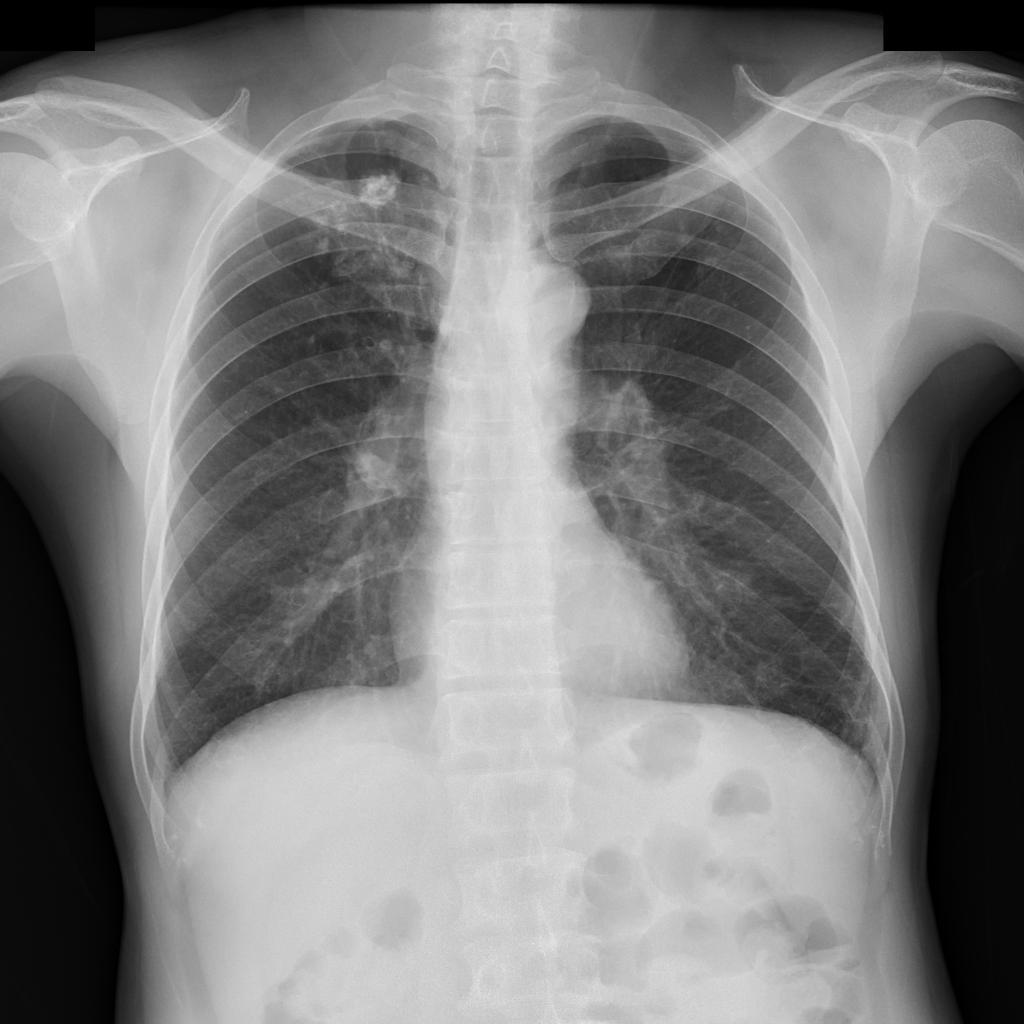Nodule: (358, 176, 396, 210)
